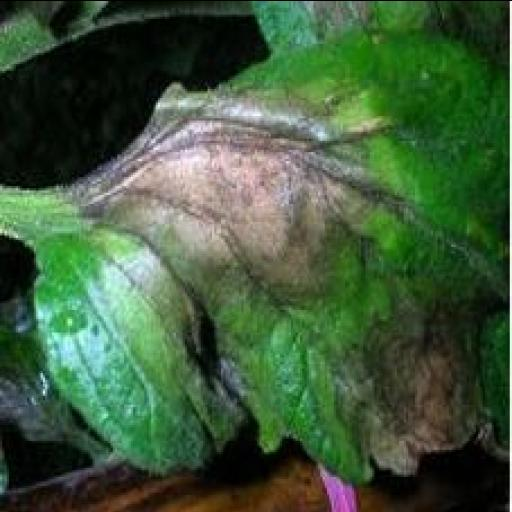Late Blight: (25, 25, 507, 485)
